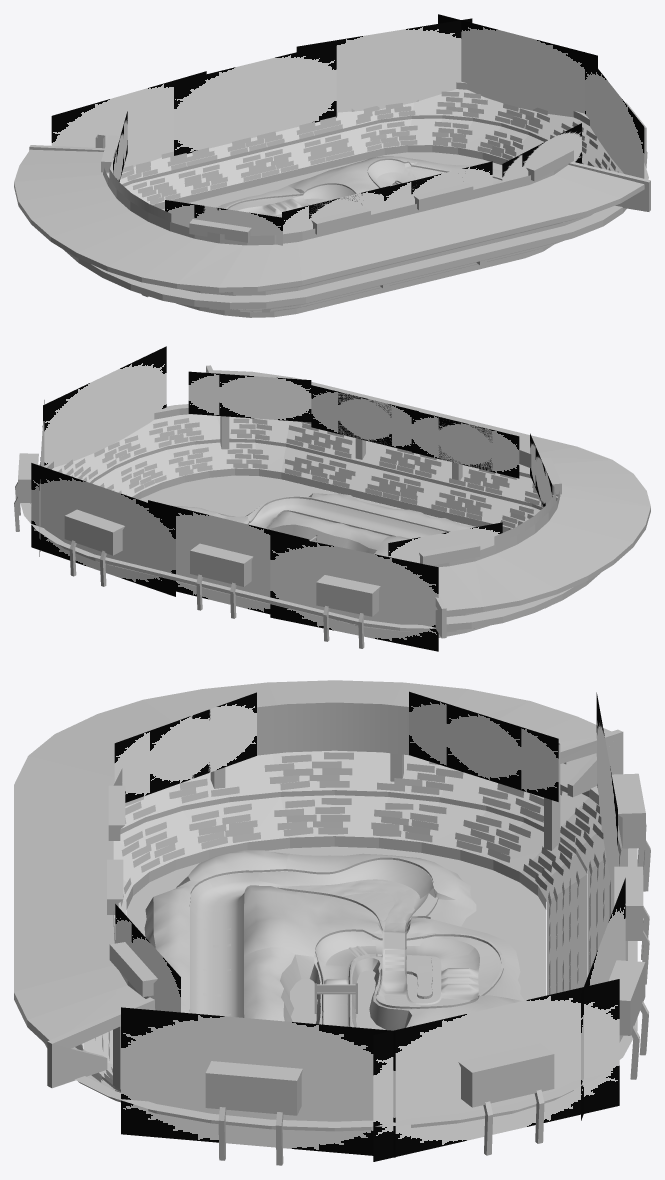
Rendered from waluigi_course.dae.
The picture shows the model from 3 angles, top to bottom: view 1: azimuth 30°, elevation 25°; view 2: azimuth 150°, elevation 25°; view 3: azimuth 270°, elevation 25°; orthographic projection. The views are drawn at different scales.
Visible parts, largest first — view 1: n18b17, n11b18, n17b3, n10b13, n9b7, n7b11, n16b16, n19b6, n0b0, n14b15, n6b9; view 2: n18b17, n11b18, n10b13, n7b11, n16b16, n17b3, n9b7, n14b15, n19b6, n20b1; view 3: n18b17, n11b18, n7b11, n10b13, n16b16, n9b7, n14b15, n17b3, n19b6, n0b0, n20b1, n12b20 (+2 smaller).
Part boxes in pixels (x1,y1,x2,y2): n18b17: (51, 14, 644, 245); n11b18: (14, 89, 647, 312); n17b3: (14, 81, 650, 309); n10b13: (121, 91, 618, 311); n9b7: (109, 115, 592, 317); n7b11: (162, 152, 563, 222); n16b16: (101, 102, 646, 242); n19b6: (95, 134, 568, 312); n0b0: (303, 160, 409, 200); n14b15: (238, 168, 497, 215); n6b9: (304, 172, 414, 205); n18b17: (31, 346, 552, 651); n11b18: (14, 370, 650, 648); n10b13: (58, 418, 558, 628); n7b11: (139, 475, 475, 556); n16b16: (18, 453, 561, 616); n17b3: (20, 365, 650, 638); n9b7: (90, 421, 555, 637); n14b15: (250, 498, 446, 538); n19b6: (220, 416, 560, 608); n20b1: (218, 493, 376, 553); n18b17: (114, 691, 625, 1161); n11b18: (14, 680, 650, 1165); n7b11: (126, 846, 546, 1027); n10b13: (75, 752, 621, 1092); n16b16: (107, 773, 645, 1115); n9b7: (102, 702, 587, 1091); n14b15: (190, 872, 479, 1026); n17b3: (14, 729, 637, 1131); n19b6: (113, 743, 560, 1089); n0b0: (258, 859, 476, 1004); n20b1: (144, 876, 455, 1030); n12b20: (290, 970, 385, 1029).
Size of the model in its own units: 834 by 546 by 157.
